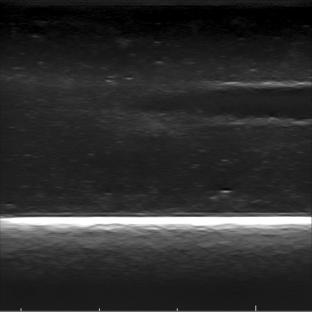vessel: (195, 79, 311, 129)
